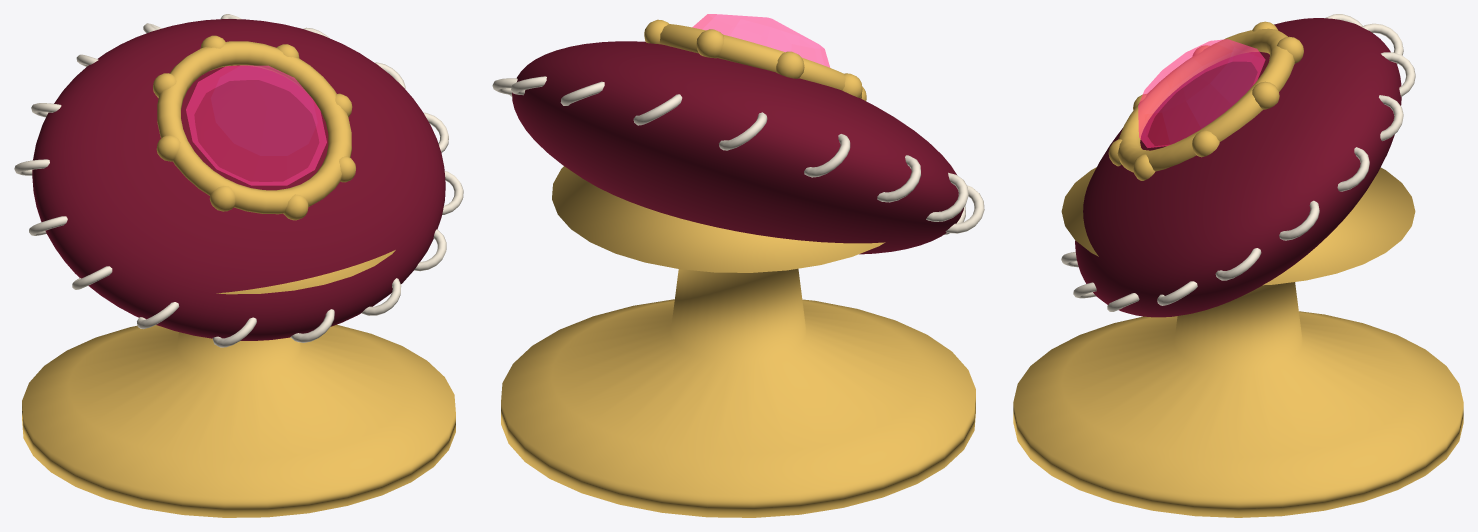
Rendered from webtoon-rofan-velvet-ruby-brooch-cushion-v17.glb.
The picture shows the model from 3 angles, left to right: view 1: azimuth 30°, elevation 25°; view 2: azimuth 150°, elevation 25°; view 3: azimuth 270°, elevation 25°; orthographic projection. The views are drawn at different scales.
Visible parts, largest first — view 1: RoyalBurgundyVelvetCushion, VelvetDisplayGoldStandAndBezel, RubyPrismCenterpieceGem, ChampagneSilkLaceScallops; view 2: VelvetDisplayGoldStandAndBezel, RoyalBurgundyVelvetCushion, ChampagneSilkLaceScallops, RubyPrismCenterpieceGem; view 3: VelvetDisplayGoldStandAndBezel, RoyalBurgundyVelvetCushion, RubyPrismCenterpieceGem, ChampagneSilkLaceScallops.
Part boxes in pixels (x1,y1,x2,y2): RoyalBurgundyVelvetCushion: (32,19,445,340); VelvetDisplayGoldStandAndBezel: (22,35,455,517); RubyPrismCenterpieceGem: (186,65,326,185); ChampagneSilkLaceScallops: (14,14,463,347); VelvetDisplayGoldStandAndBezel: (501,19,975,517); RoyalBurgundyVelvetCushion: (512,41,963,254); ChampagneSilkLaceScallops: (492,76,984,234); RubyPrismCenterpieceGem: (692,14,829,67); VelvetDisplayGoldStandAndBezel: (1013,21,1463,517); RoyalBurgundyVelvetCushion: (1075,18,1401,317); RubyPrismCenterpieceGem: (1138,39,1265,147); ChampagneSilkLaceScallops: (1061,14,1415,311).
Bounding box in the file's own units: 0.618 × 0.5279 × 0.56.
